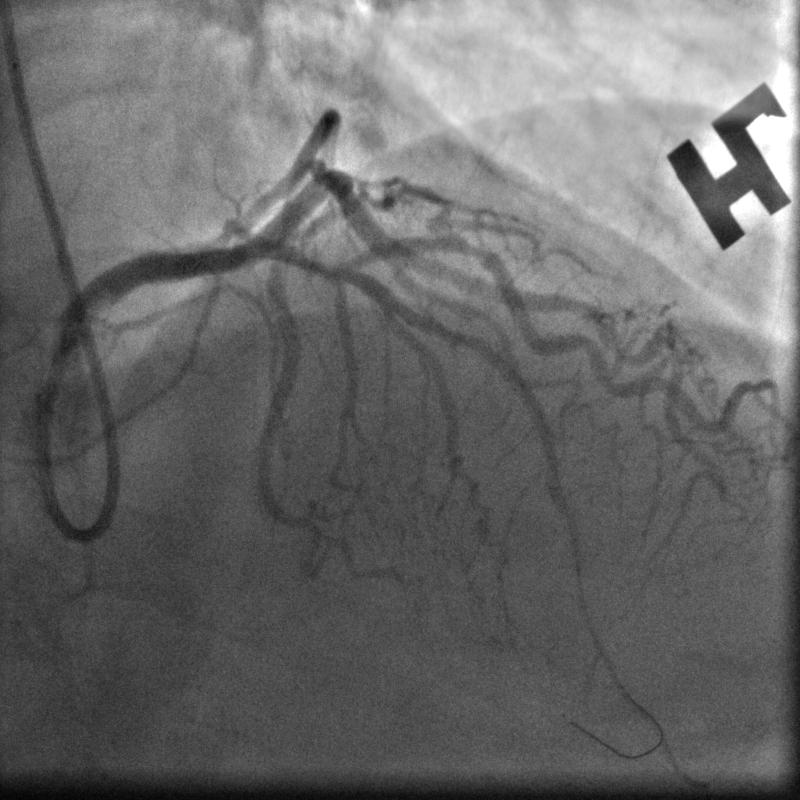Stenosis: (457, 230, 498, 272)
